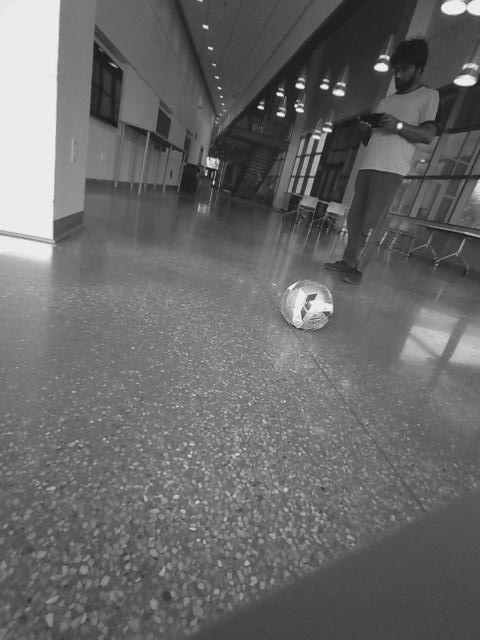ball: (279, 277, 337, 331)
